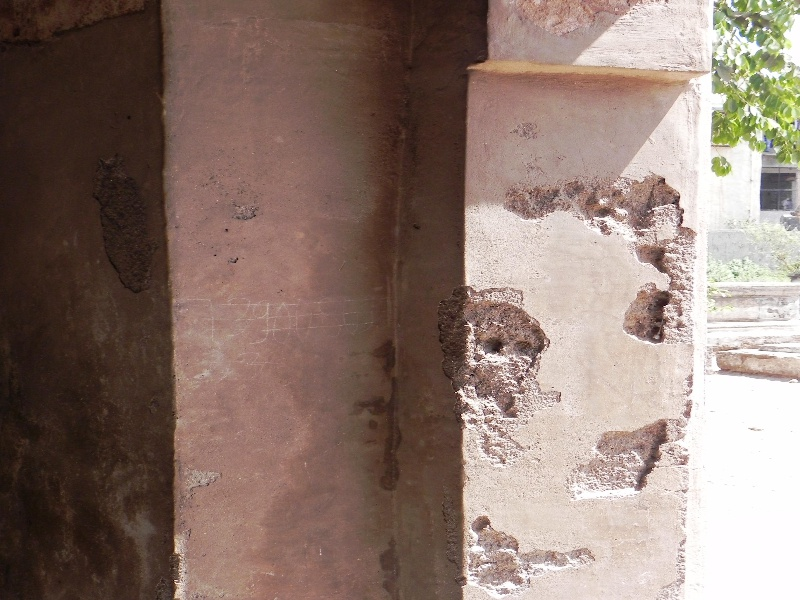Spalling: (427, 282, 692, 409), (491, 163, 693, 277), (438, 508, 600, 598), (85, 149, 161, 300), (569, 415, 690, 506)
